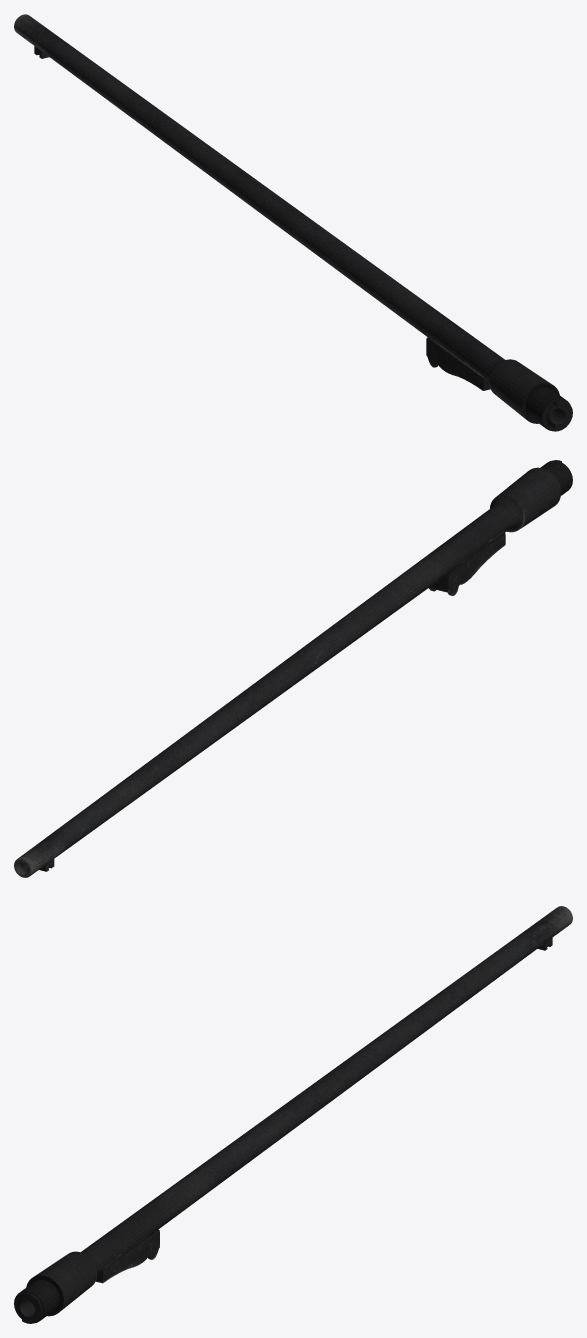
3 renders of one model, top to bottom at view 1: azimuth 30°, elevation 25°; view 2: azimuth 150°, elevation 25°; view 3: azimuth 330°, elevation 25°, orthographic.
Parts seen in each view (by area): view 1: TW_5ae09bff5acfc4001562219d_PZ_Import; view 2: TW_5ae09bff5acfc4001562219d_PZ_Import; view 3: TW_5ae09bff5acfc4001562219d_PZ_Import.
Boxes of the visible parts, <box> form: TW_5ae09bff5acfc4001562219d_PZ_Import: <box>14,14,572,431</box>; TW_5ae09bff5acfc4001562219d_PZ_Import: <box>14,460,572,877</box>; TW_5ae09bff5acfc4001562219d_PZ_Import: <box>14,906,572,1323</box>.
Size of the model in its own units: 0.0173 by 0.4222 by 0.0229.
1 material, 1 textured.
